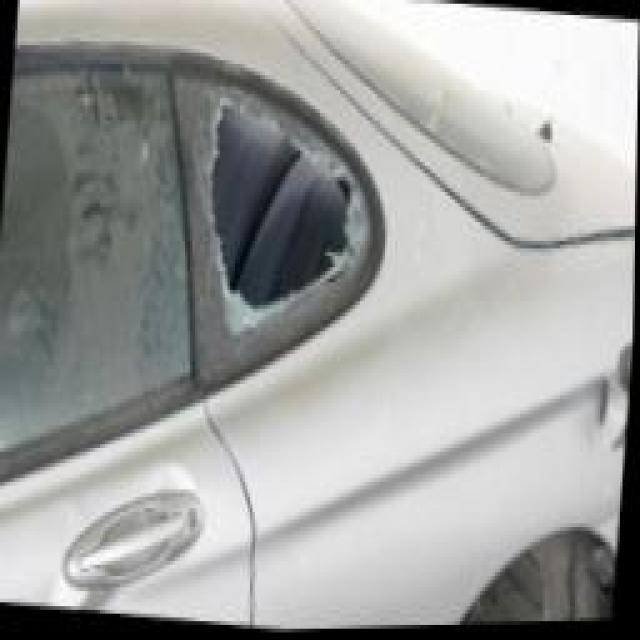Fender: (142, 53, 477, 498)
